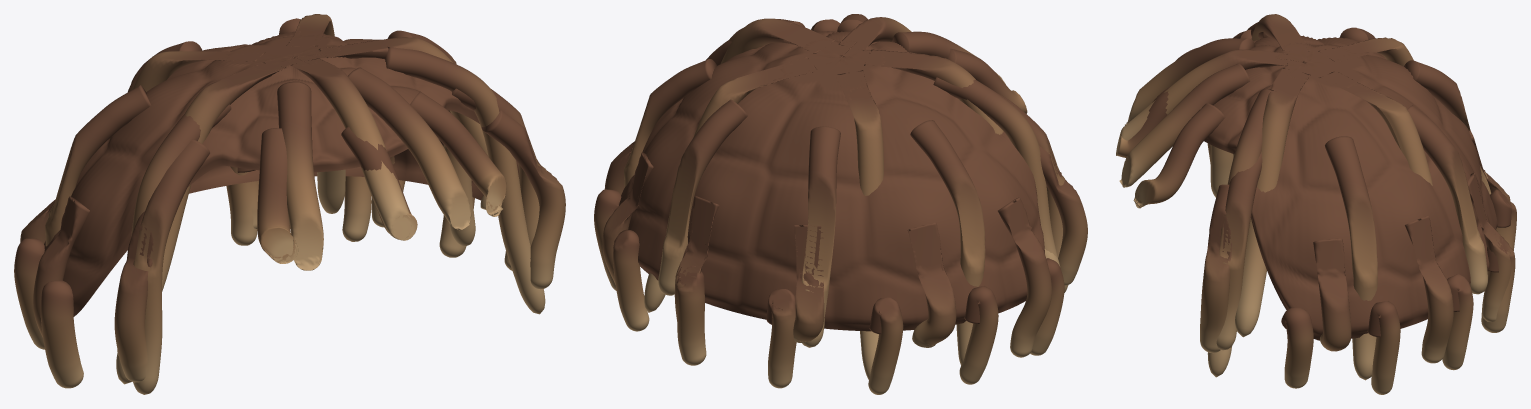
Rendered from Ombre-efedeeb8b7f5253-hair.glb.
3 views of the same model, side by side, from view 1: azimuth 30°, elevation 25°; view 2: azimuth 150°, elevation 25°; view 3: azimuth 270°, elevation 25° (orthographic). The views are drawn at different scales.
Parts seen in each view (by area): view 1: 226 hair / Hair252 / sectioned locs.001; view 2: 226 hair / Hair252 / sectioned locs.001; view 3: 226 hair / Hair252 / sectioned locs.001.
Boxes of the visible parts, x1,y1,x2,y2 form: 226 hair / Hair252 / sectioned locs.001: (14, 14, 565, 394); 226 hair / Hair252 / sectioned locs.001: (594, 14, 1087, 394); 226 hair / Hair252 / sectioned locs.001: (1116, 14, 1516, 394).
Size of the model in its own units: 1.1 by 0.619 by 0.8815.
Materials: 1 (1 with a texture image).
